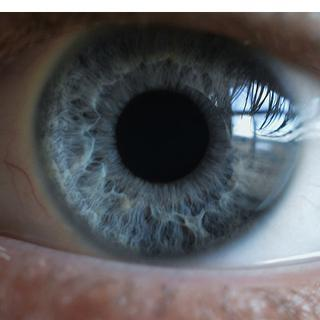iris: (34, 2, 300, 268)
